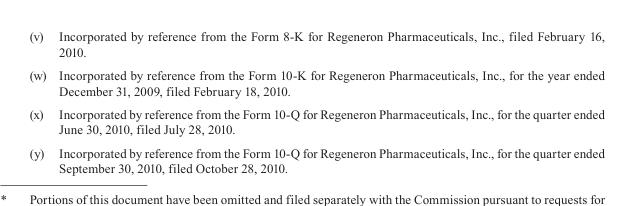table: (28, 28, 604, 174)
table column: (51, 28, 604, 174), (28, 28, 51, 174)
table row: (28, 101, 604, 140), (28, 63, 604, 101), (28, 28, 604, 63), (28, 140, 604, 174)
